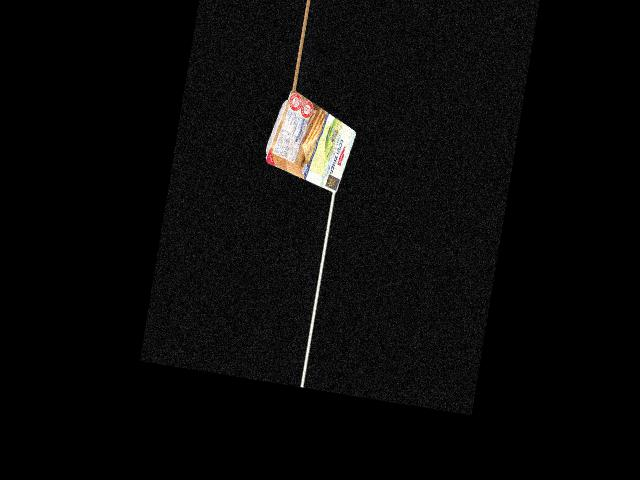cheese: (264, 101, 358, 186)
